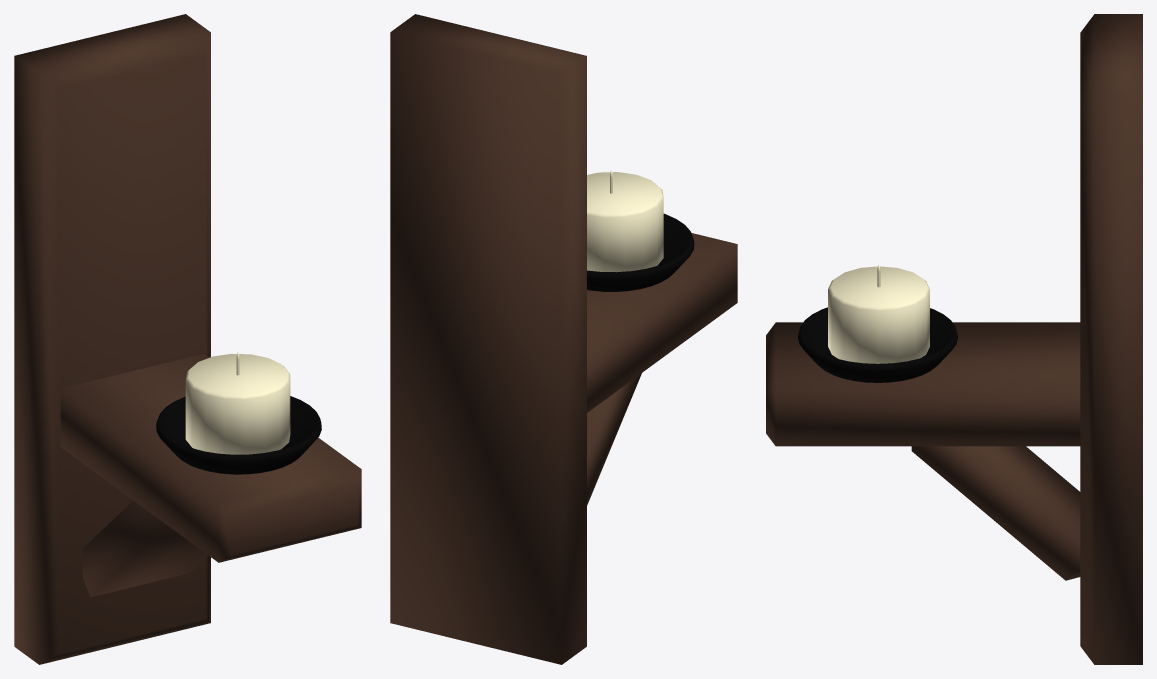
The model's file is Suporte vela.fbx.
The picture shows the model from 3 angles, left to right: view 1: azimuth 30°, elevation 25°; view 2: azimuth 150°, elevation 25°; view 3: azimuth 270°, elevation 25°; orthographic projection. The views are drawn at different scales.
Visible parts, largest first — view 1: Suporte Vela; view 2: Suporte Vela; view 3: Suporte Vela.
Part boxes in pixels (x1,y1,x2,y2): Suporte Vela: (14,14,361,664); Suporte Vela: (390,14,737,664); Suporte Vela: (766,14,1142,664).
Size of the model in its own units: 60.81 by 200 by 120.
